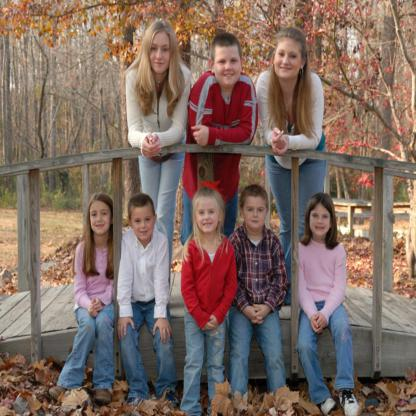face: (215, 51, 242, 86), (275, 45, 302, 79), (149, 38, 173, 74), (197, 204, 220, 233), (132, 212, 155, 240), (245, 201, 267, 229), (91, 206, 112, 235), (311, 209, 331, 236)
